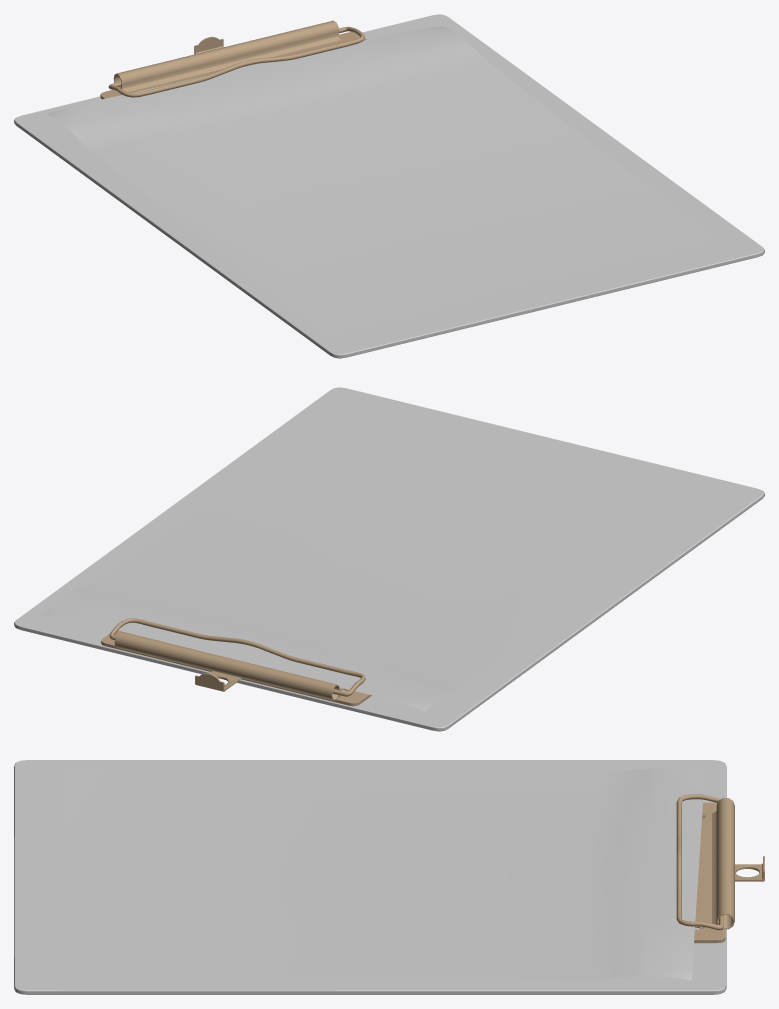
The model's file is BA05_testpaper.FBX.
3 views of the same model, one above another, from view 1: azimuth 30°, elevation 25°; view 2: azimuth 150°, elevation 25°; view 3: azimuth 270°, elevation 25° (orthographic). The views are drawn at different scales.
Parts seen in each view (by area): view 1: BA05_testpaper02, BA05_testpaper01, BA05_testpaper03; view 2: BA05_testpaper02, BA05_testpaper01, BA05_testpaper03; view 3: BA05_testpaper02, BA05_testpaper01, BA05_testpaper03.
Part boxes in pixels (box(x1,y1,x2,y2)): BA05_testpaper02: box(47, 26, 721, 334); BA05_testpaper01: box(14, 14, 764, 358); BA05_testpaper03: box(100, 20, 366, 99); BA05_testpaper02: box(42, 404, 730, 711); BA05_testpaper01: box(14, 387, 764, 731); BA05_testpaper03: box(101, 618, 371, 706); BA05_testpaper02: box(52, 766, 705, 980); BA05_testpaper01: box(14, 760, 726, 994); BA05_testpaper03: box(676, 794, 764, 943).
Size of the model in its own units: 44.29 by 2.37 by 60.83.
